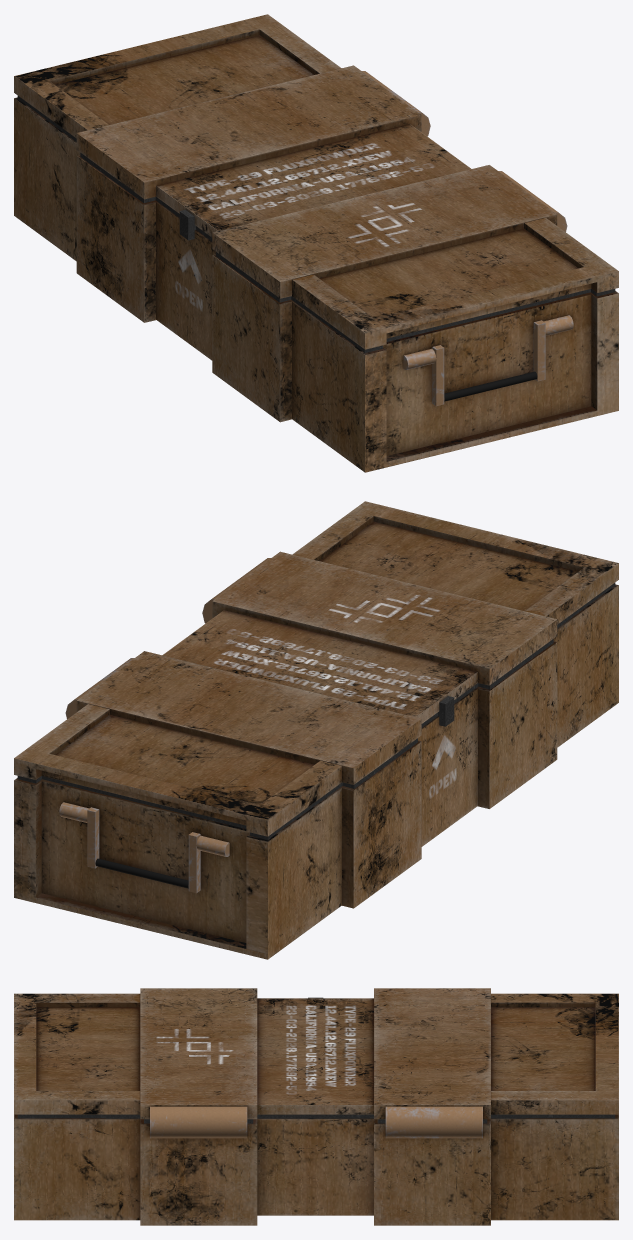
The model's file is ammo box 200 jadi.fbx.
The picture shows the model from 3 angles, top to bottom: view 1: azimuth 30°, elevation 25°; view 2: azimuth 150°, elevation 25°; view 3: azimuth 270°, elevation 25°; orthographic projection. The views are drawn at different scales.
Visible parts, largest first — view 1: Cube; view 2: Cube; view 3: Cube.
Part boxes in pixels (x1,y1,x2,y2): Cube: (14, 14, 618, 472); Cube: (14, 501, 618, 959); Cube: (14, 988, 618, 1225).
Bounding box in the file's own units: 0.4565 × 0.2089 × 0.948.
Materials: 1 (1 with a texture image).
